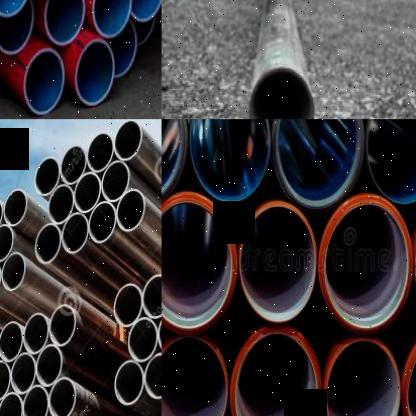pipe: (320, 194, 412, 334), (162, 192, 237, 333), (241, 203, 316, 323), (230, 326, 321, 416), (276, 119, 364, 209), (190, 119, 271, 203), (326, 338, 400, 416), (162, 336, 227, 416), (366, 119, 416, 202), (248, 65, 313, 119), (23, 49, 65, 115), (75, 39, 115, 106), (44, 0, 84, 46), (0, 0, 34, 54), (107, 23, 137, 82), (91, 0, 132, 38), (127, 317, 159, 362), (114, 359, 143, 406), (113, 283, 142, 328), (116, 189, 146, 231), (113, 120, 142, 161), (86, 132, 115, 173), (36, 344, 63, 387), (59, 144, 87, 185), (102, 160, 129, 202), (89, 201, 116, 243), (61, 212, 88, 254), (49, 304, 76, 346), (130, 7, 160, 44), (74, 172, 101, 213), (10, 352, 36, 394), (48, 376, 75, 416), (24, 312, 49, 355), (35, 223, 61, 264), (35, 156, 60, 196), (48, 185, 73, 225), (3, 188, 28, 227), (0, 321, 23, 362), (2, 252, 26, 291), (141, 274, 162, 318), (22, 383, 48, 416), (144, 352, 161, 399), (129, 0, 162, 22), (0, 392, 22, 416), (0, 0, 30, 17), (0, 359, 10, 401), (0, 197, 3, 234)
